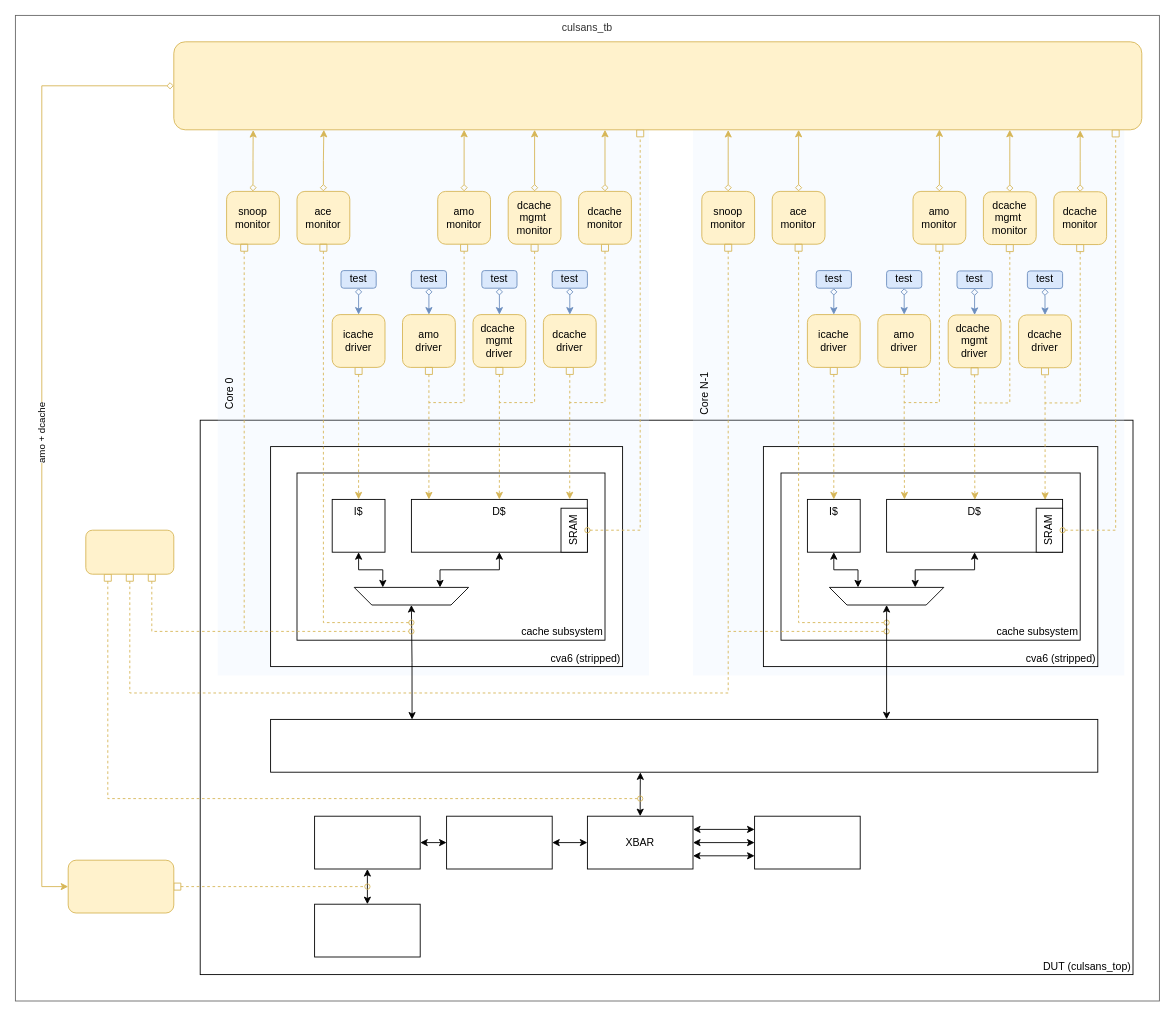
The diagram is 1175 pixels wide and 1016 high, and some of its shapes have lost their labels. The centre of each missing label's shape, as x and y in pixels:
ace_ccu_monitor / scoreboard: (x=129, y=551)
atomics: (x=499, y=842)
CCU: (x=684, y=745)
dcache checker: (x=120, y=886)
DRAM model: (x=367, y=930)
LLC: (x=367, y=842)
Peripherals: (x=807, y=842)
std_cache_scoreboard: (x=657, y=85)
